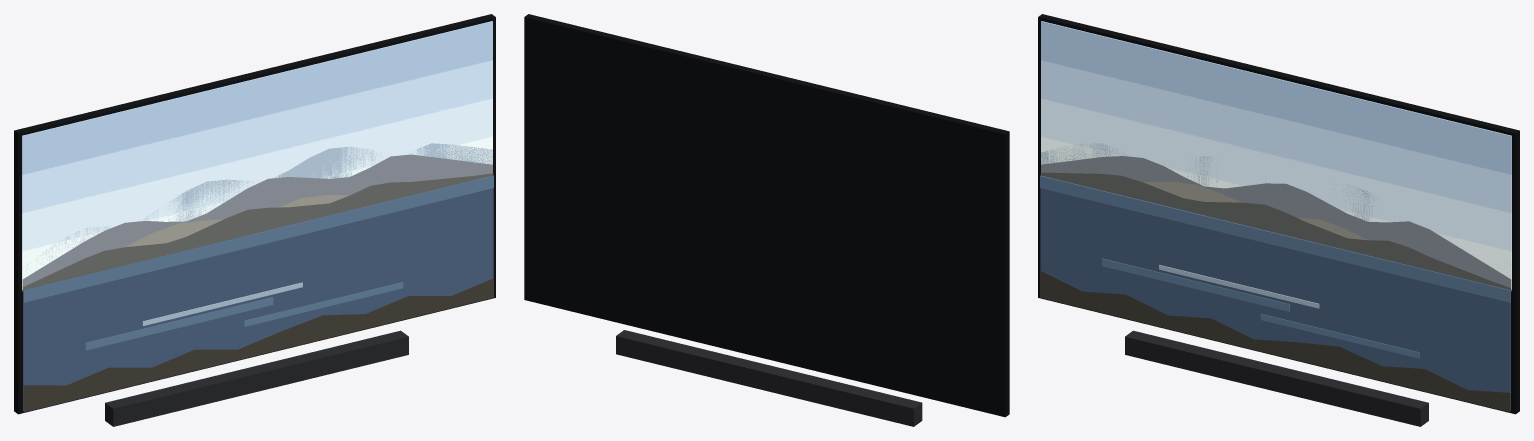
3 views of the same model, side by side, from view 1: azimuth 30°, elevation 25°; view 2: azimuth 150°, elevation 25°; view 3: azimuth 330°, elevation 25° (orthographic).
Parts seen in each view (by area): view 1: root; view 2: root; view 3: root.
Boxes of the visible parts, <box> form: root: <box>14,14,495,426</box>; root: <box>524,14,1009,426</box>; root: <box>1038,14,1519,426</box>.
Size of the model in its own units: 2.02 by 1.26 by 0.061.
